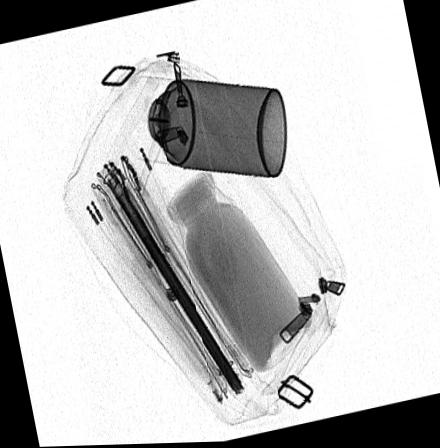Sprayer: (120, 77, 288, 178)
